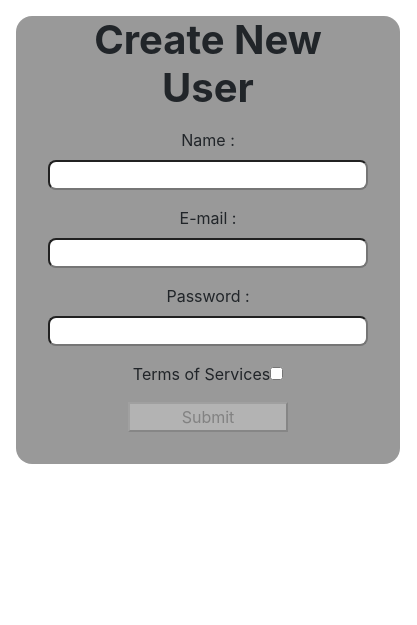
Test case: form test › error count test
Type "a" into the field with test id "name" at (208,175), box [48, 160, 368, 190]
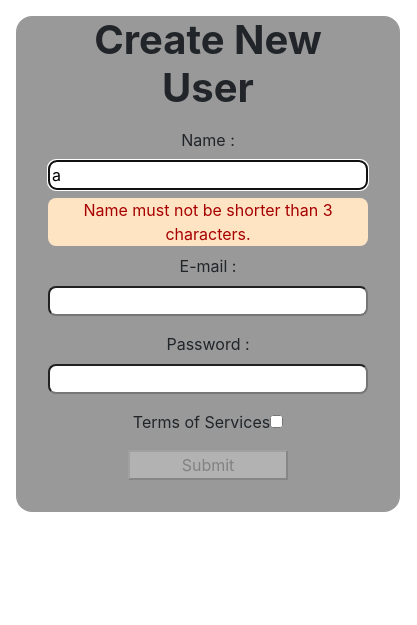
Type "anilgmail.com" into the field with test id "email" at (208,301), box [48, 286, 368, 316]
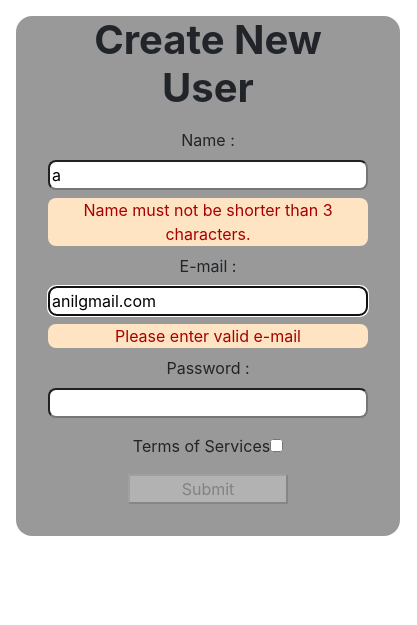
Type "Aa1" into the password field with test id "password" at (208,403), box [48, 388, 368, 418]
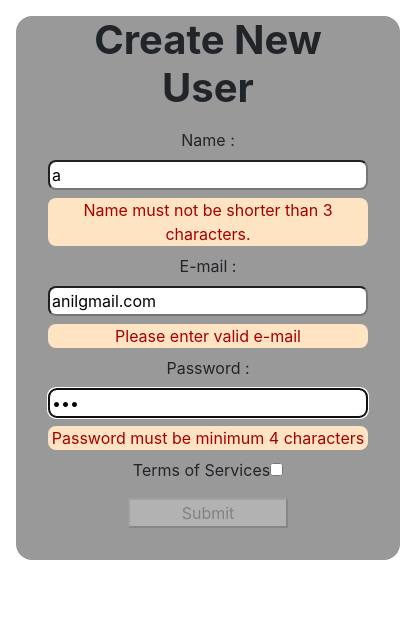
Check the checkbox with test id "terms" at (277,470), box [270, 463, 283, 476]
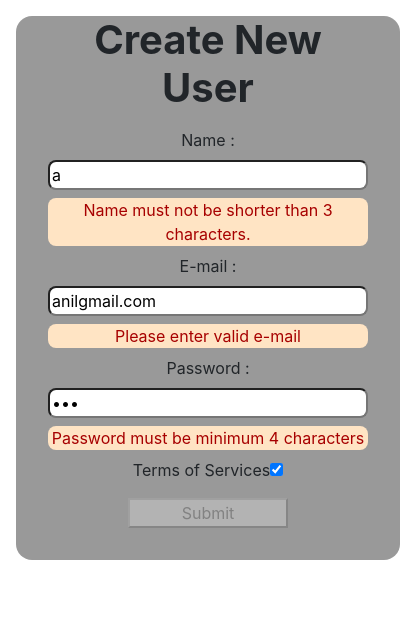
Uncheck the checkbox with test id "terms" at (277,470), box [270, 463, 283, 476]
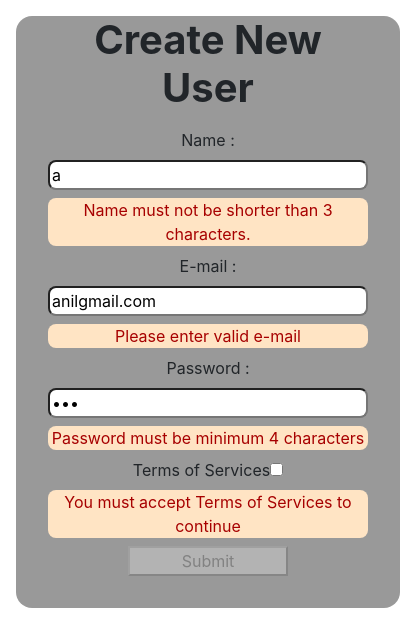
Now the number of elements with test id "error" is 4, box [48, 198, 368, 246]; [48, 324, 368, 348]; [48, 426, 368, 450]; [48, 490, 368, 538]
